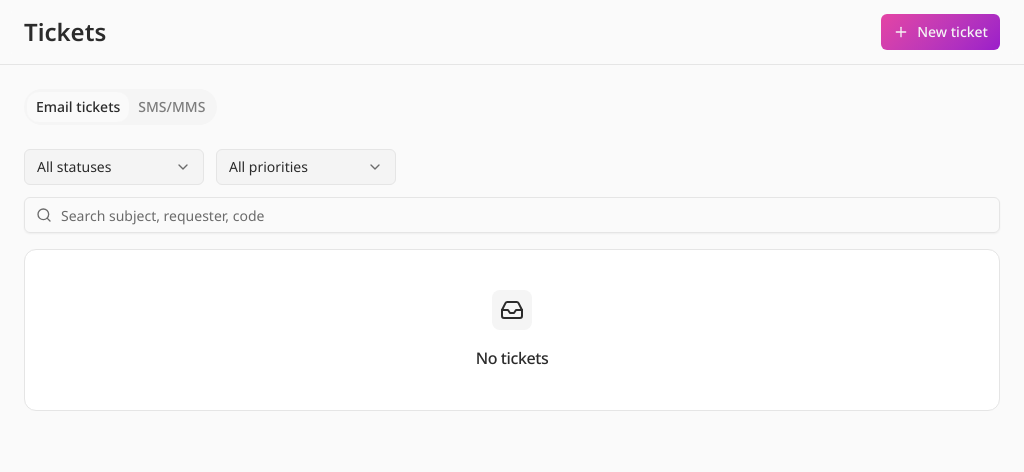
Test: TicketsPage › offers Clear filters when a filtered search is empty
Type "zzz" into the field named "Search tickets". click: (512, 215)
box: [24,197,1000,233]
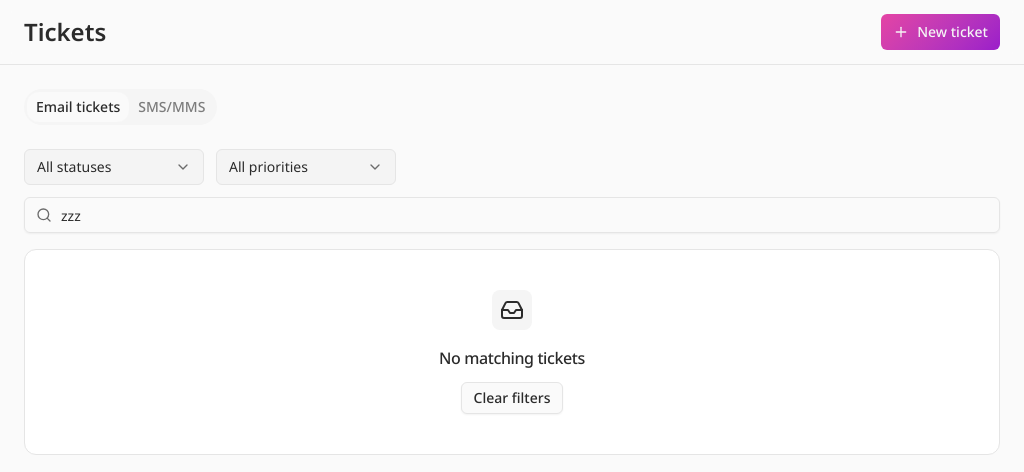
Check: the text "No matching tickets" is shown, box [439,346,585,370]
Click the button "Clear filters". click: (512, 398)
box: [460,382,564,414]
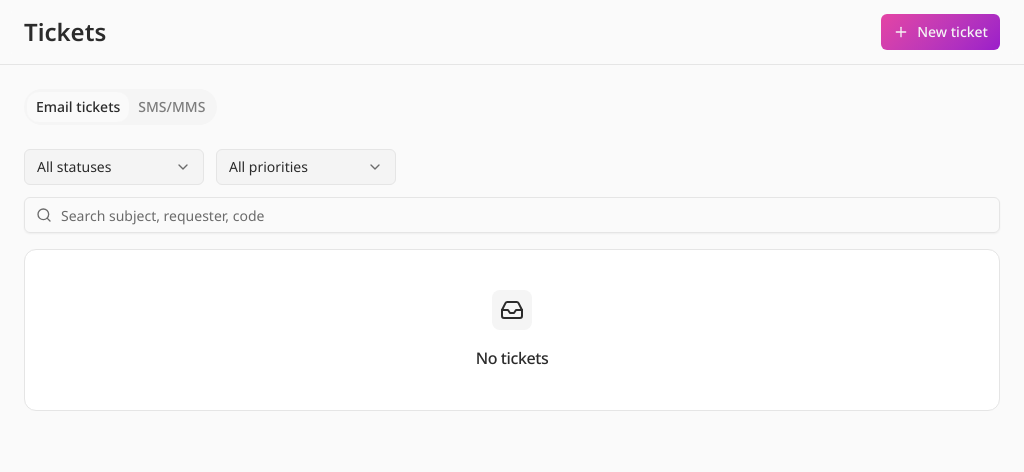
Check: the text "No tickets" is shown, box [476,346,548,370]
